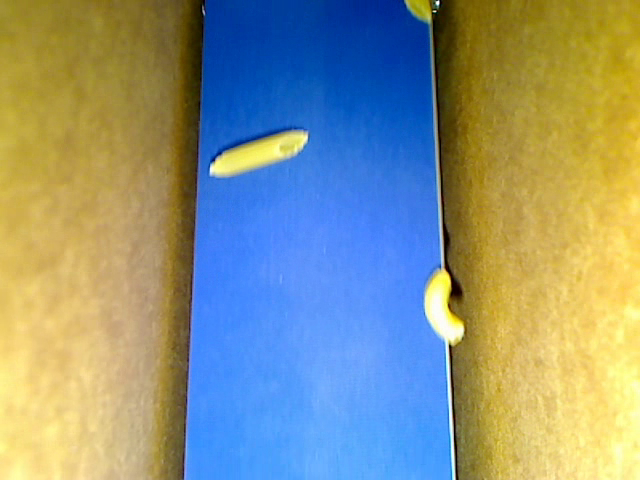elbow: (424, 267, 466, 345)
penne: (209, 128, 308, 178)
